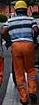boots: (20, 97, 27, 104), (0, 87, 3, 99)
hard-hat: (14, 0, 26, 10)
